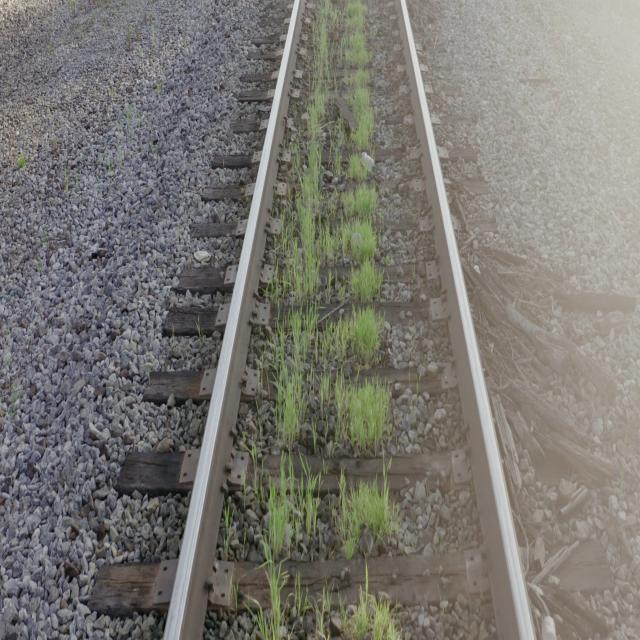Plant: (289, 0, 390, 456), (259, 458, 319, 640), (276, 307, 319, 447), (339, 478, 399, 558), (350, 564, 399, 640), (340, 587, 398, 640)
